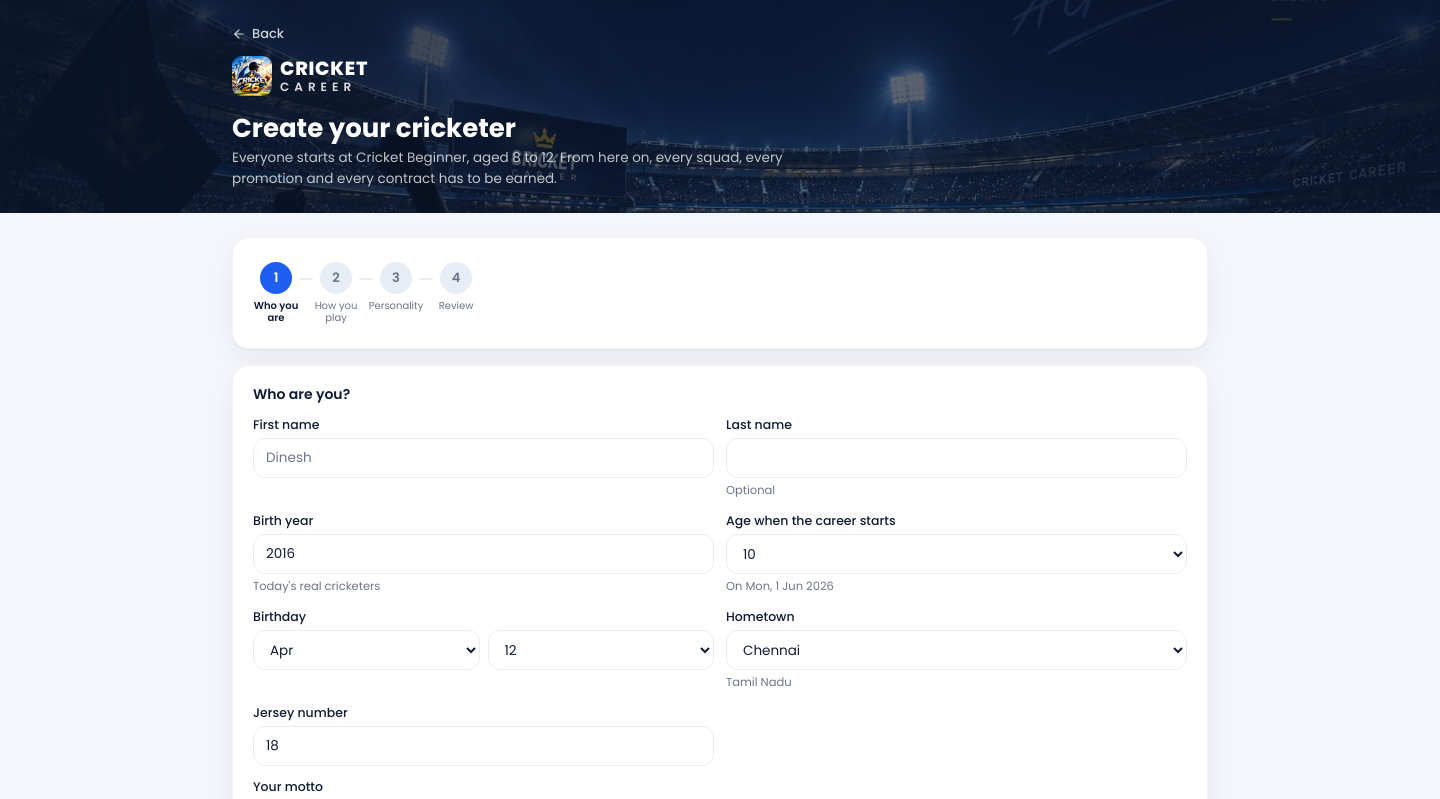
Test: NewCareer wizard › does not let a bowler choose "does not bowl"
Type "Kavin" into the field labelled "First name" at (484, 458), box [253, 438, 714, 478]
(page scrolled)
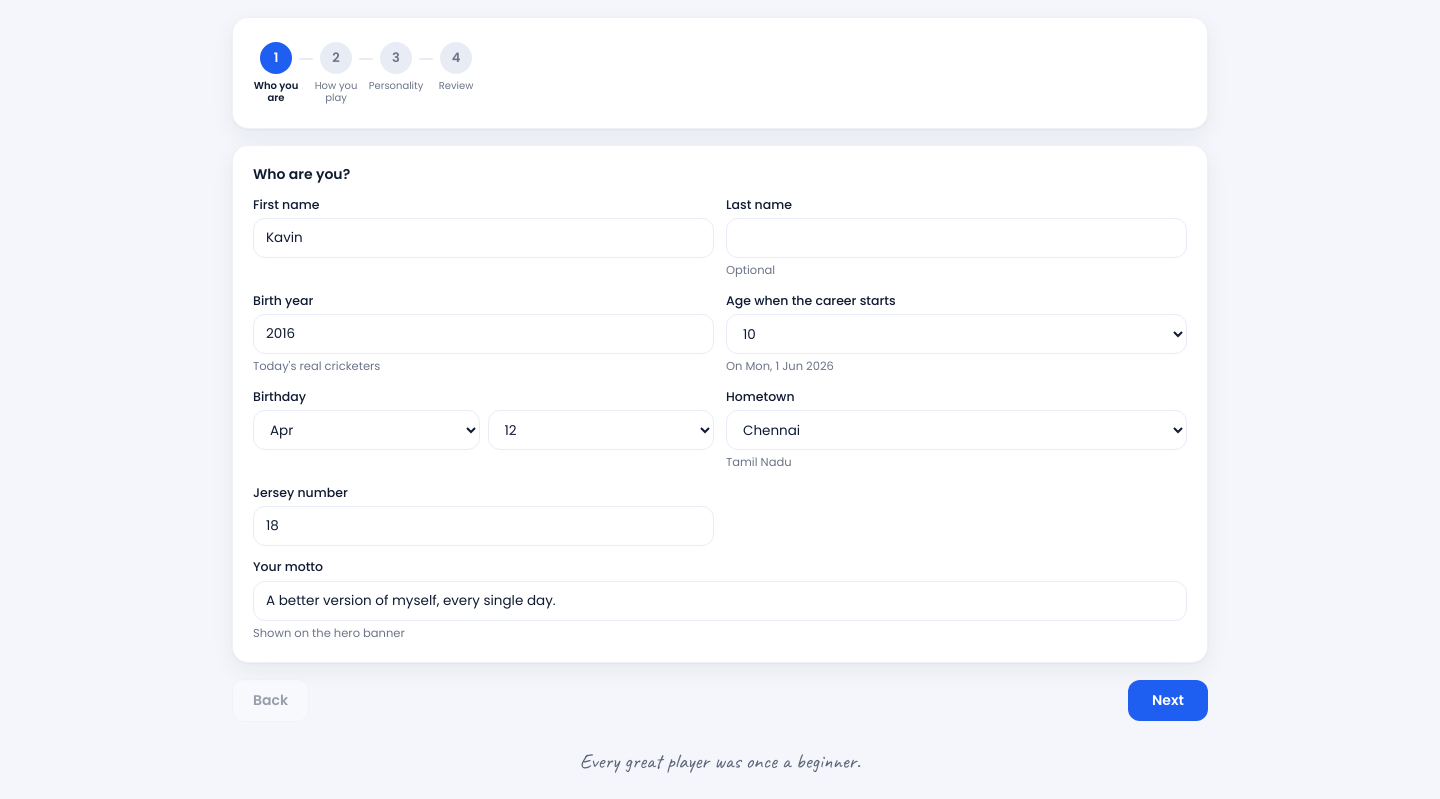
Click the button "Next" at (1168, 701), box [1128, 680, 1208, 721]
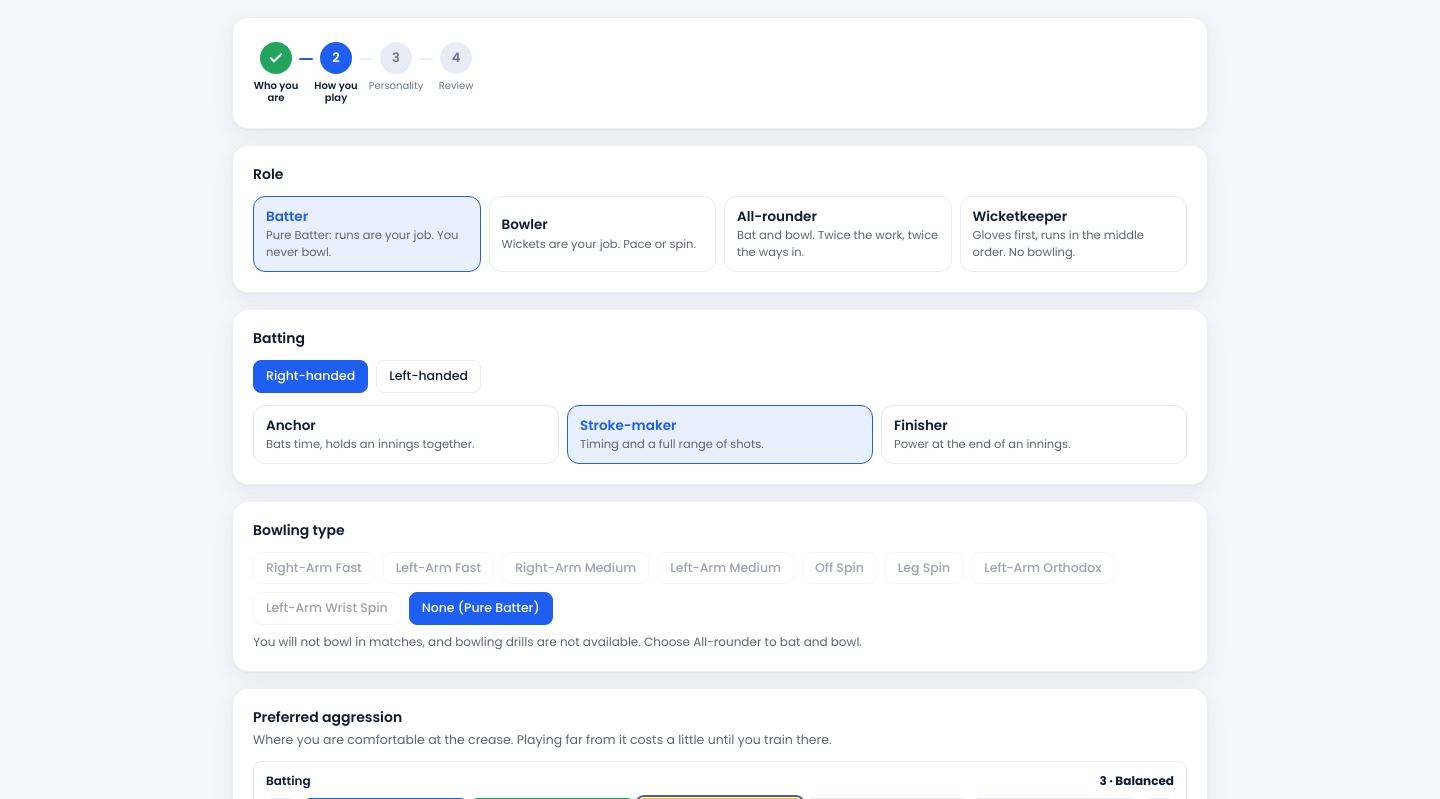
Click the radio button labelled "Bowler Wickets are your job. Pace or spin." at (602, 234), box [488, 196, 716, 272]
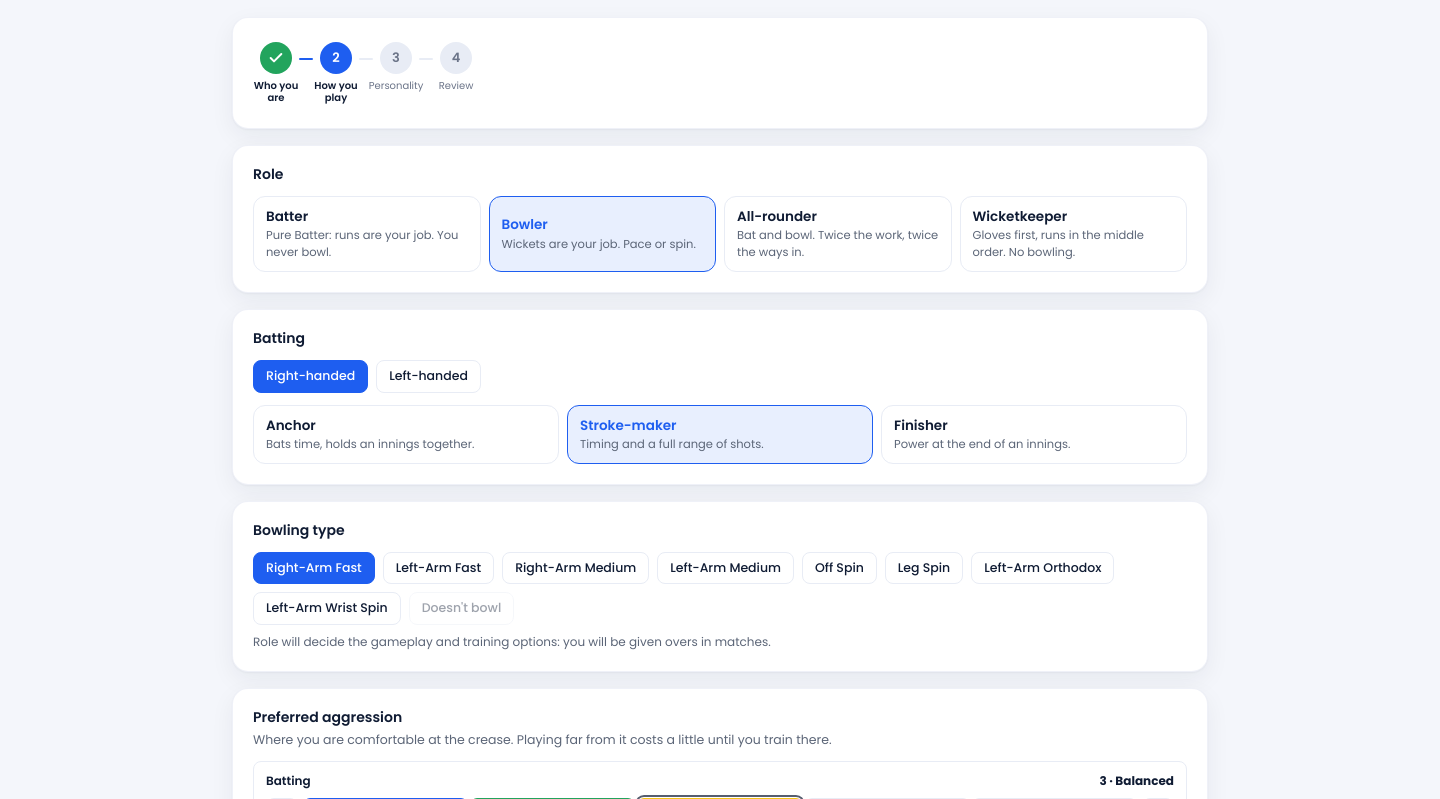
Check: the radio button labelled "Doesn't bowl" is disabled, box [409, 592, 514, 625]
